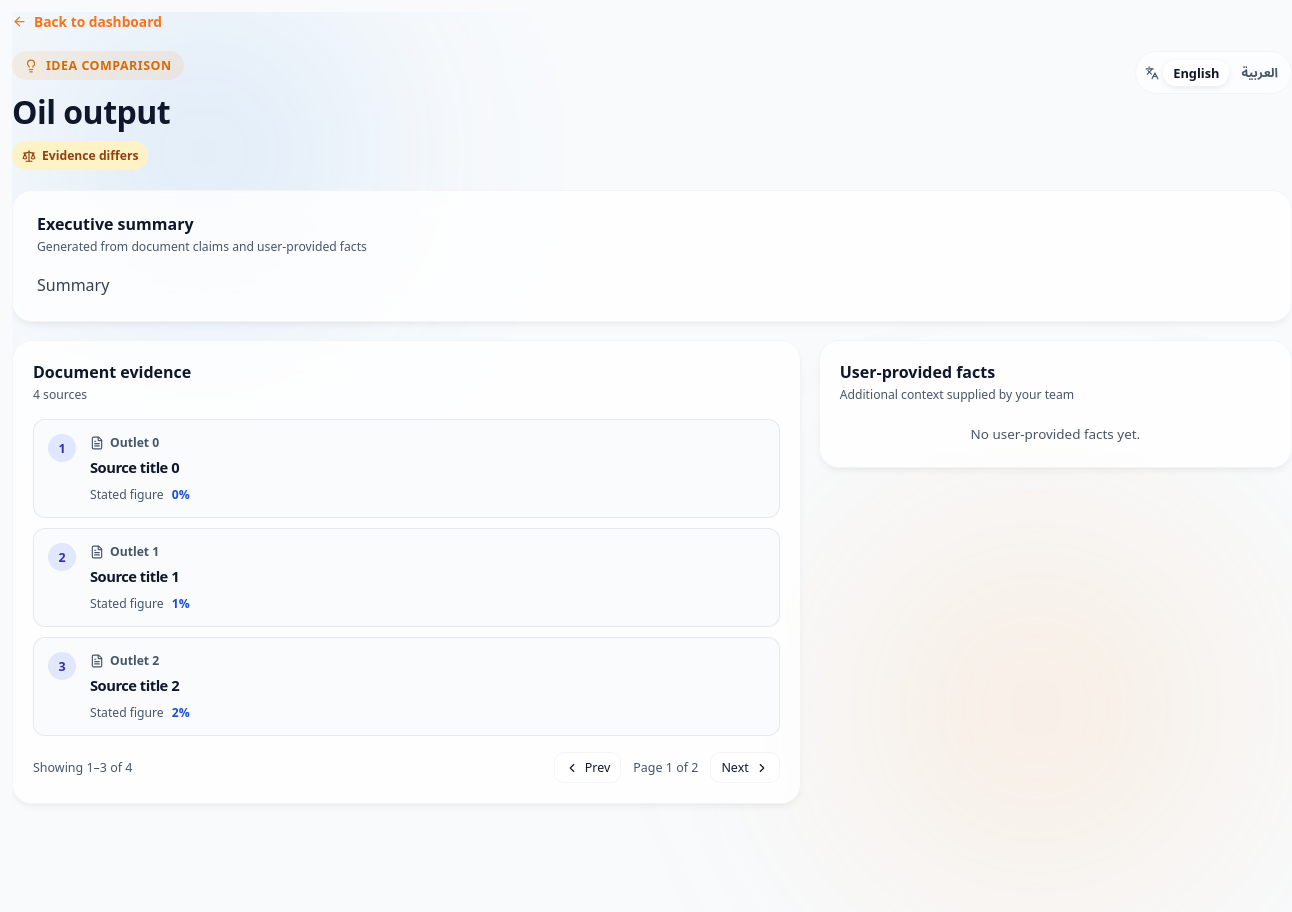
Test: IdeaComparisonDetailPage pagination › starts paging document evidence once there are more than 3 sources
This screenshot has width=1292, height=912.
Expected: the heading "Source title 0" is shown, [90,457,179,477]
Expected: the text "Source title 3" is not shown
Click the button with aria-label "Next document evidence page".
click(745, 768)  # box [710,752,780,783]
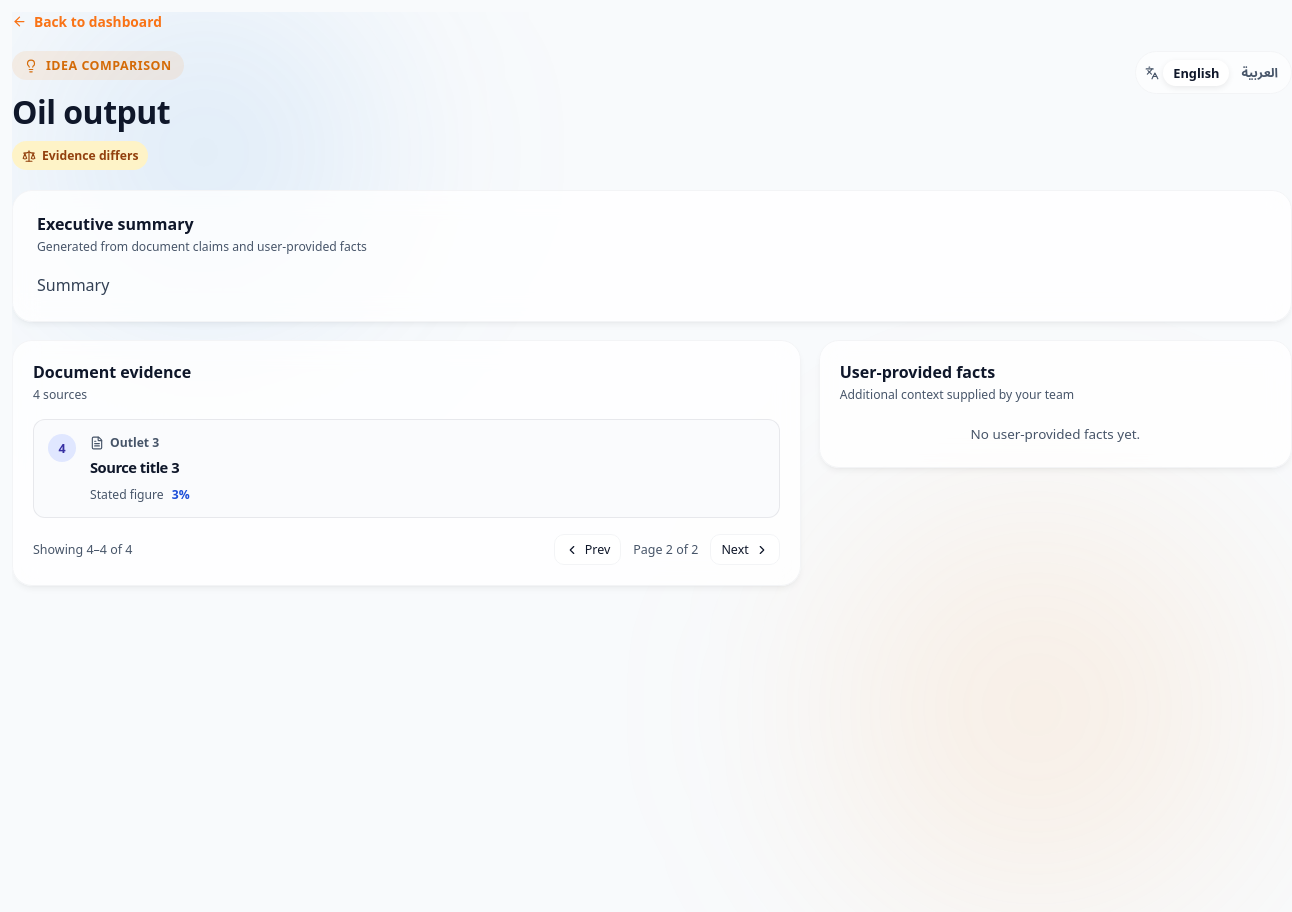
Expected: the heading "Source title 3" is shown, [90,457,179,477]
Expected: the text "Showing 4–4 of 4" is shown, [33,541,132,558]
